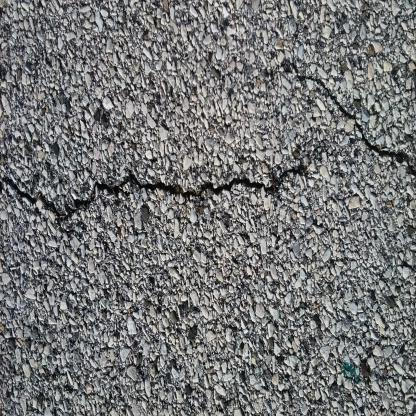Cracks: (0, 154, 316, 229), (299, 69, 415, 174)
